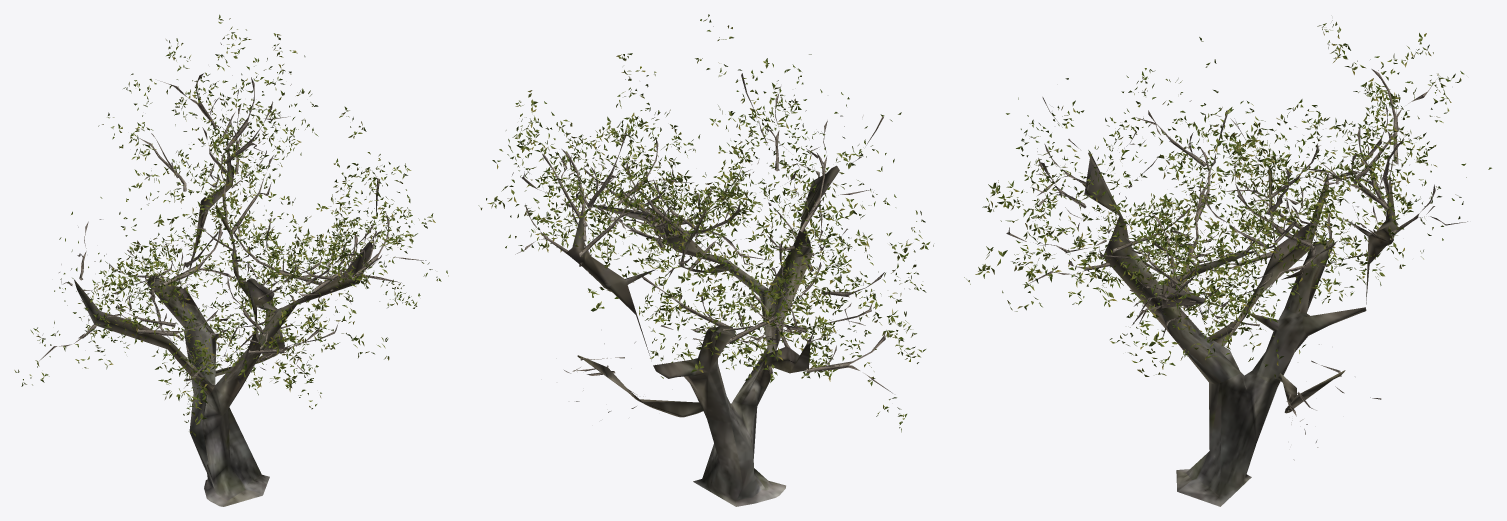
Rendered from island_tree_01.glb.
3 views of the same model, side by side, from view 1: azimuth 30°, elevation 25°; view 2: azimuth 150°, elevation 25°; view 3: azimuth 270°, elevation 25° (orthographic). The views are drawn at different scales.
Parts seen in each view (by area): view 1: island_tree_01_LOD0; view 2: island_tree_01_LOD0; view 3: island_tree_01_LOD0.
Part boxes in pixels (x1=…): island_tree_01_LOD0: x1=14, y1=14, x2=448, y2=506; island_tree_01_LOD0: x1=478, y1=14, x2=933, y2=506; island_tree_01_LOD0: x1=964, y1=20, x2=1491, y2=506.
Size of the model in its own units: 4.7 by 4.98 by 4.79.
3 materials, 3 textured.
